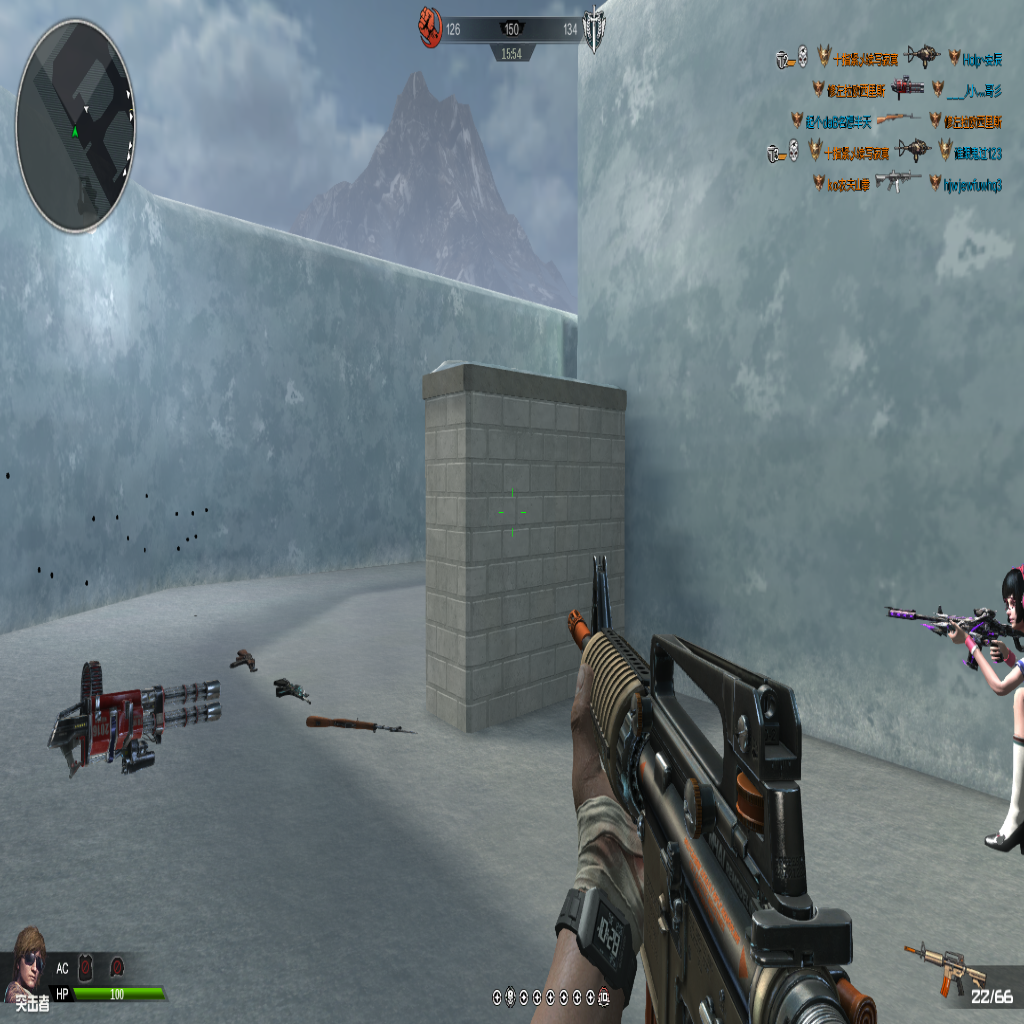tt: (969, 570, 1021, 872)
